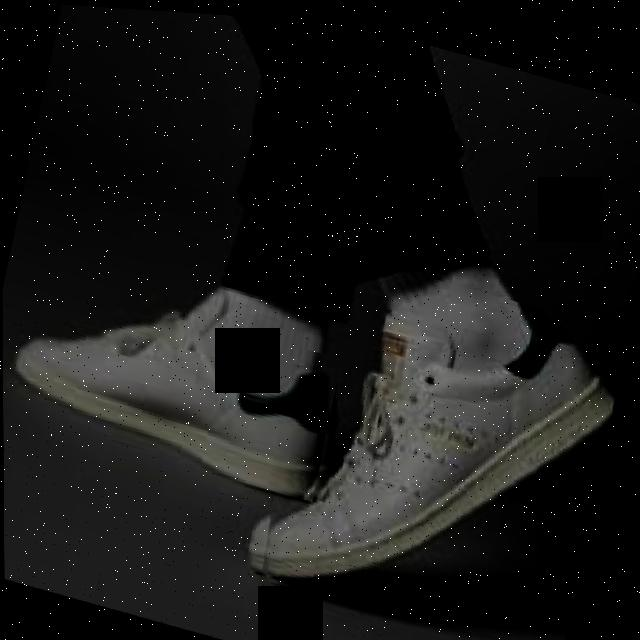shoe: (240, 236, 629, 640), (2, 268, 342, 498)
